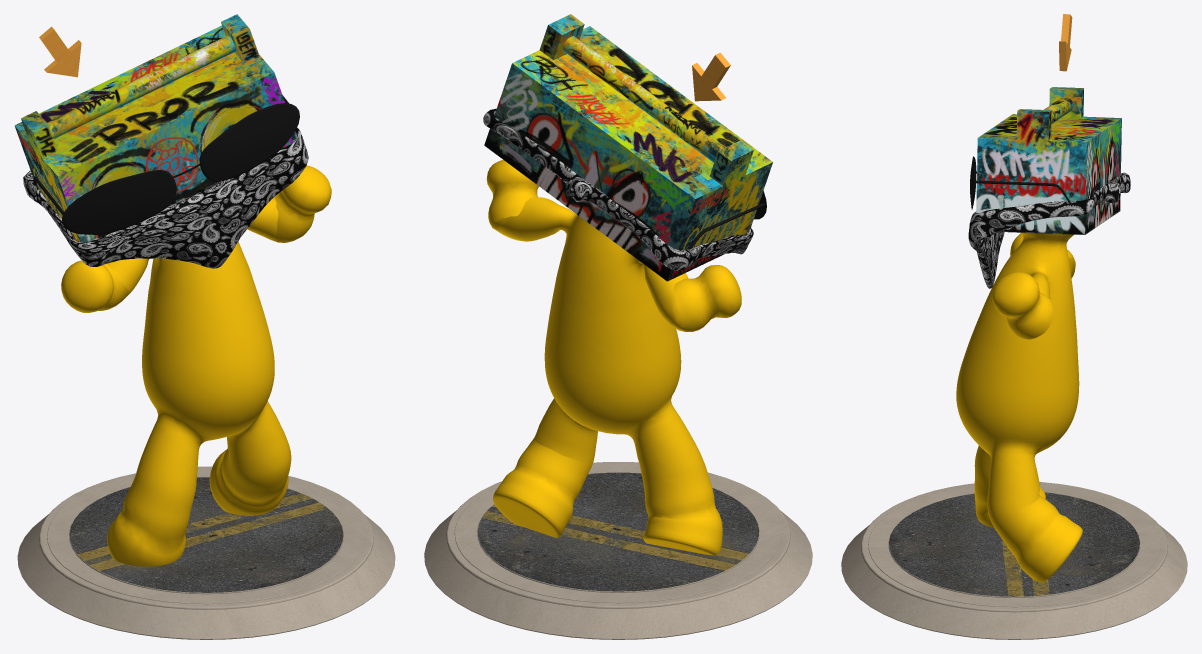
The picture shows the model from 3 angles, left to right: view 1: azimuth 30°, elevation 25°; view 2: azimuth 150°, elevation 25°; view 3: azimuth 270°, elevation 25°; orthographic projection. The views are drawn at different scales.
Visible parts, largest first — view 1: BBody; view 2: BBody; view 3: BBody.
Boxes of the visible parts, x1,y1,x2,y2 form: BBody: (14,14,395,639); BBody: (424,14,812,639); BBody: (841,14,1187,639).
Bounding box in the file's own units: 1.45 × 2.29 × 1.45.
7 materials, 5 textured.
